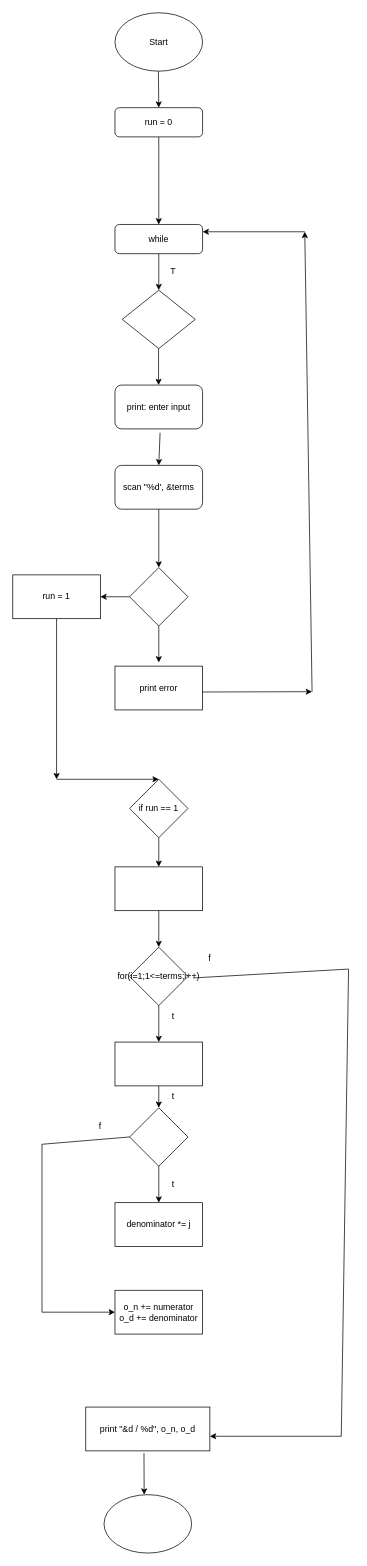
Image size: 367x1566. Some labels were removed from this diagram. Each missing label, with the box of its shape:
End: (103, 1494, 192, 1553)
for(j=1;j<=i,j++): (129, 1107, 188, 1166)
if(terms >= 0): (129, 567, 188, 626)
numerator = i denominator = 1: (114, 1041, 203, 1086)
o_n =0 o_d = 0: (114, 866, 203, 911)
run == 0: (122, 289, 195, 349)
